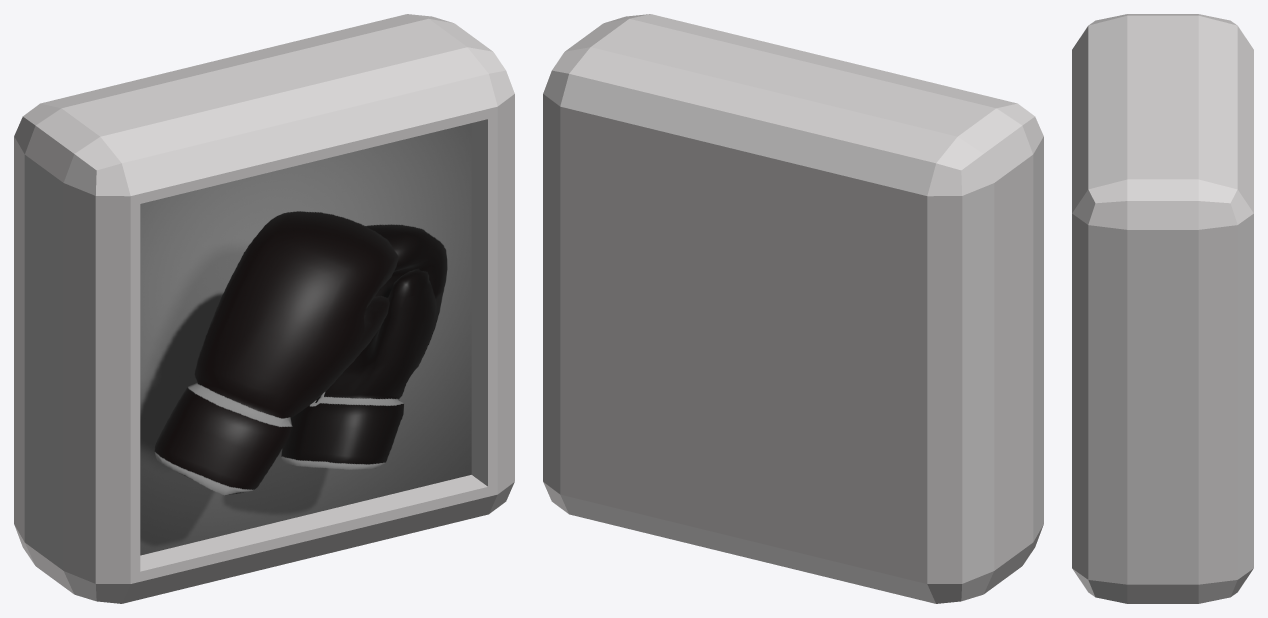
File: MarcoGuanteNegro.fbx .fbx
The picture shows the model from 3 angles, left to right: view 1: azimuth 30°, elevation 25°; view 2: azimuth 150°, elevation 25°; view 3: azimuth 270°, elevation 25°; orthographic projection. The views are drawn at different scales.
Parts seen in each view (by area): view 1: Cube.002, guantenegro; view 2: Cube.002; view 3: Cube.002.
Part boxes in pixels (<box>): Cube.002: <box>14,14,514,603</box>; guantenegro: <box>140,123,471,555</box>; Cube.002: <box>543,14,1043,603</box>; Cube.002: <box>1072,14,1253,603</box>.
Bounding box in the file's own units: 106 × 107 × 41.51.
